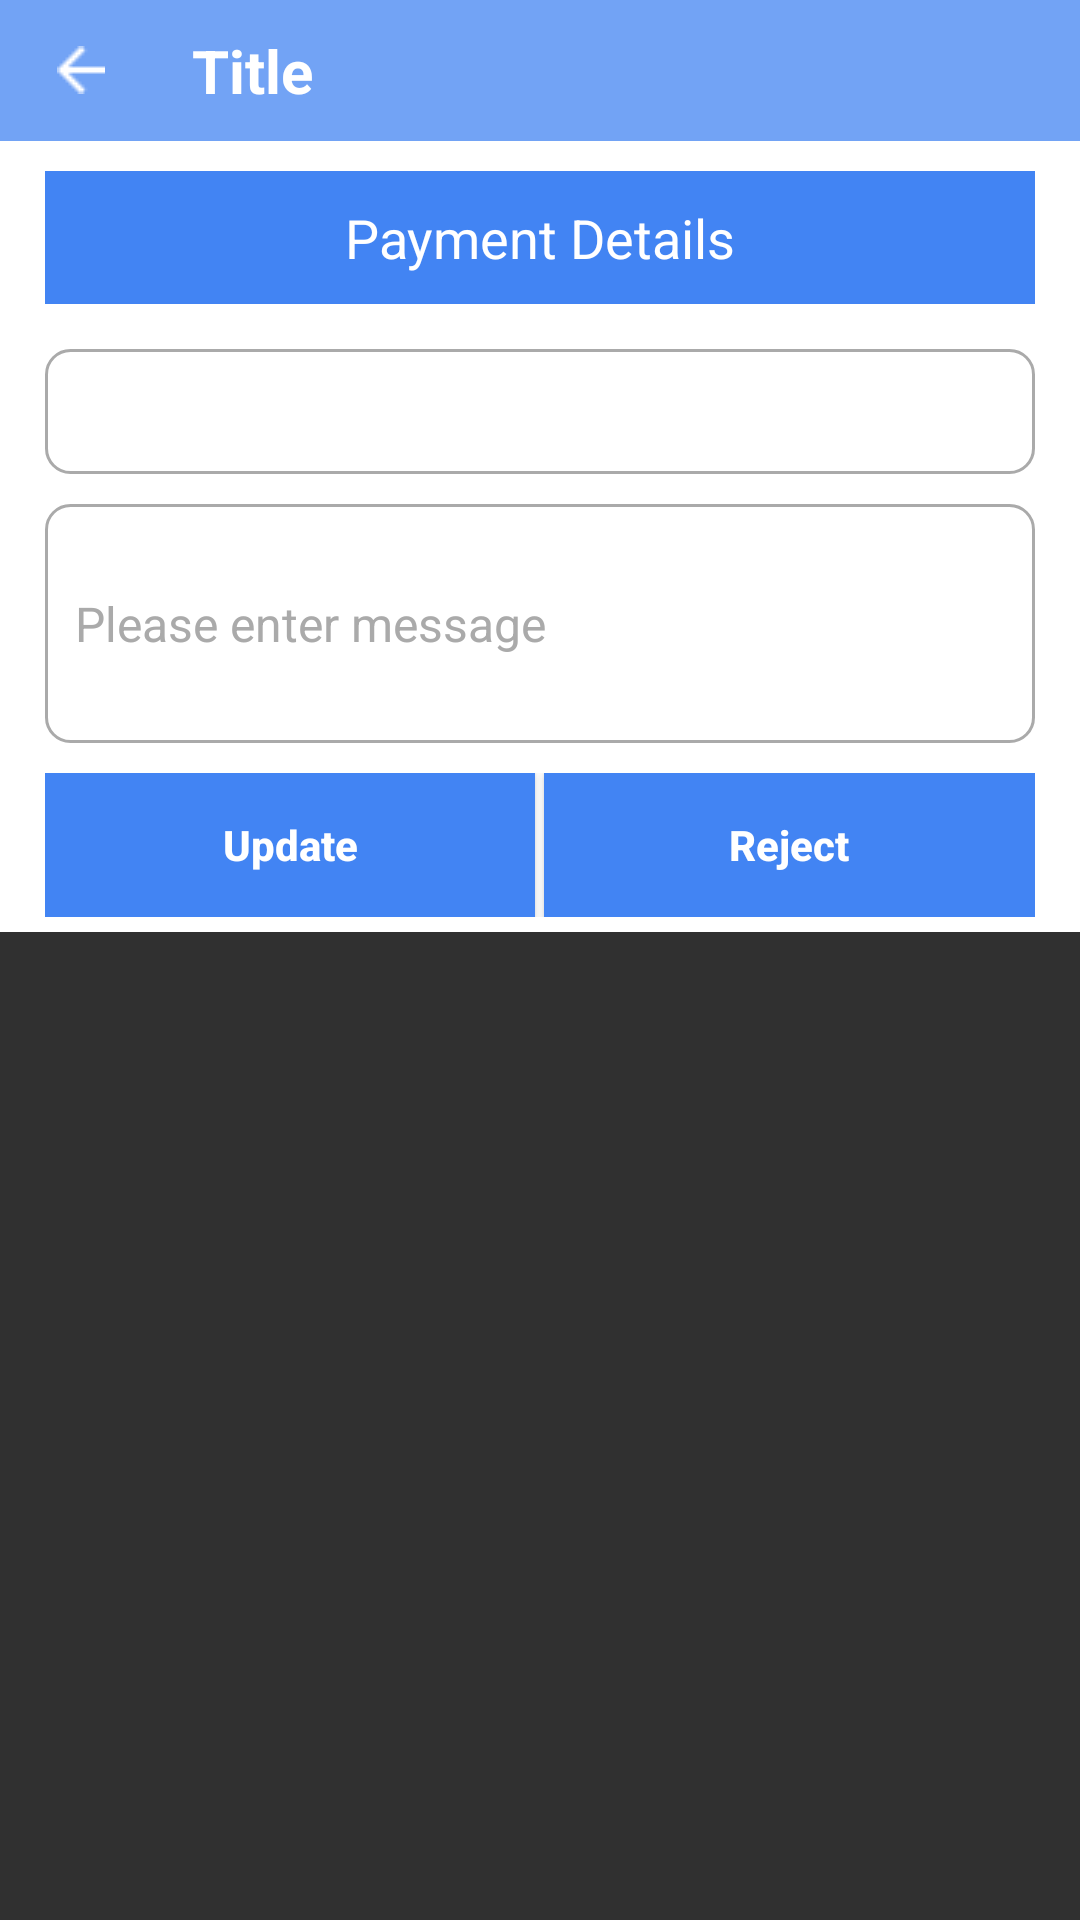

Screen size 1080 × 1920. Icon name, then its box in pixels as (x1, y1, x2, y2):
back: (57, 46, 105, 94)
